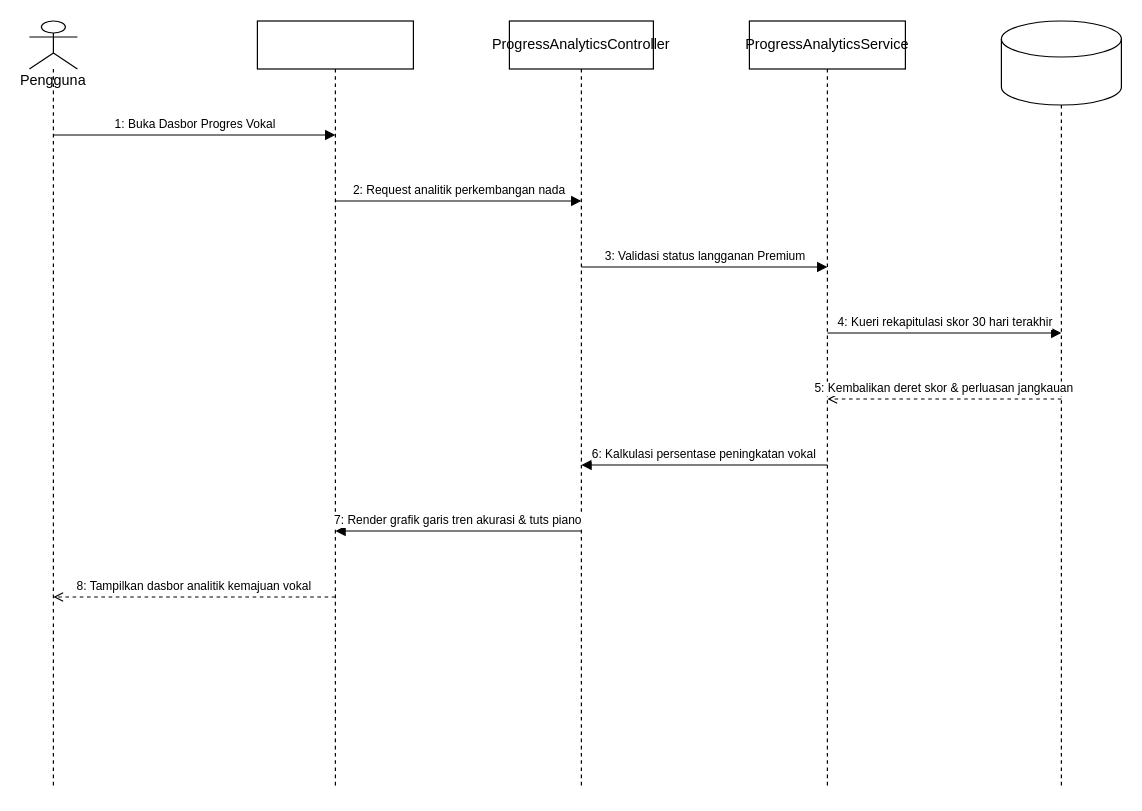
Some shapes in this 1142 by 811 pixel diagram are drawn without their labels. Each missing label, with the box of its shape:
<<Database>> VocalReportDB: (1000, 20, 1121, 105)
Tampilan Dasbor Progres: (256, 20, 413, 789)
